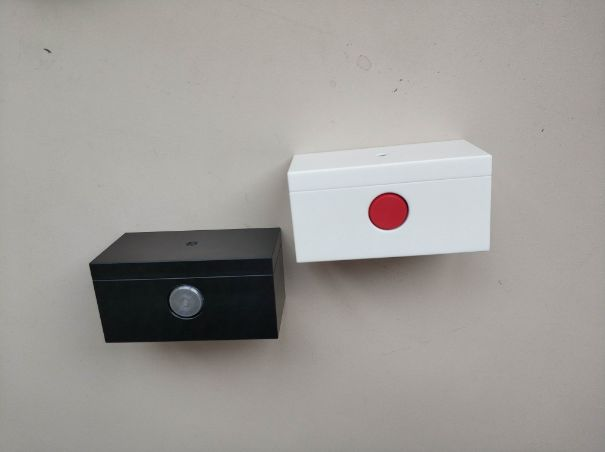black+black+silver: (87, 226, 290, 342)
white+white+red: (284, 136, 498, 265)
